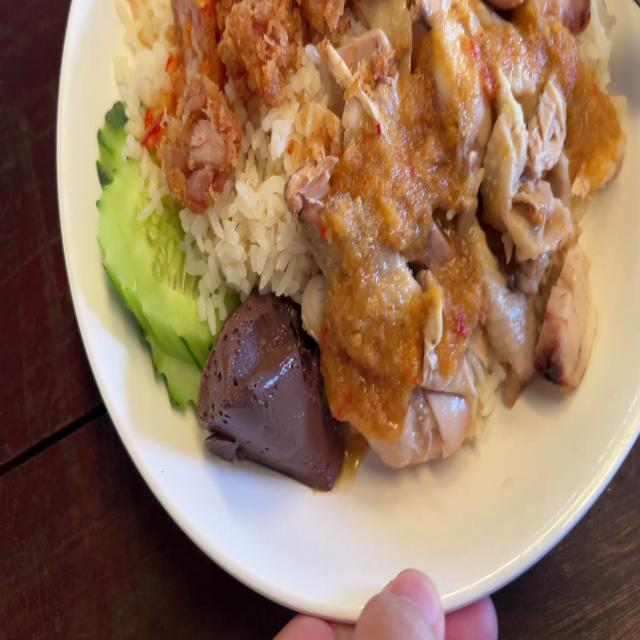boiled_chicken: (325, 0, 591, 434)
boiled_chicken_blood_jelly: (195, 290, 338, 484)
chicken_rice: (88, 0, 630, 492)
cucumber: (94, 107, 219, 405)
fried_chicken: (141, 7, 323, 198)
